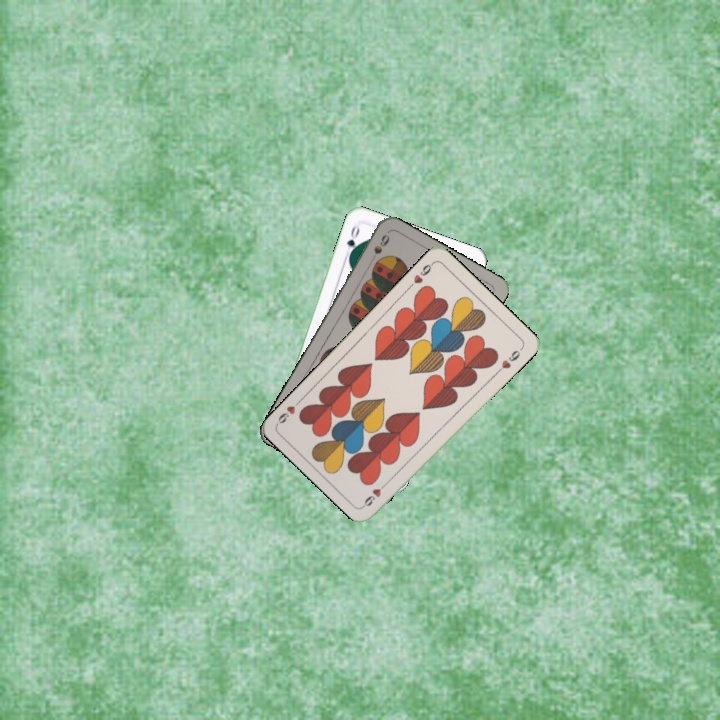GO: (341, 221, 362, 261)
H9: (405, 258, 437, 291), (360, 477, 392, 509)
S9: (366, 230, 392, 266)
